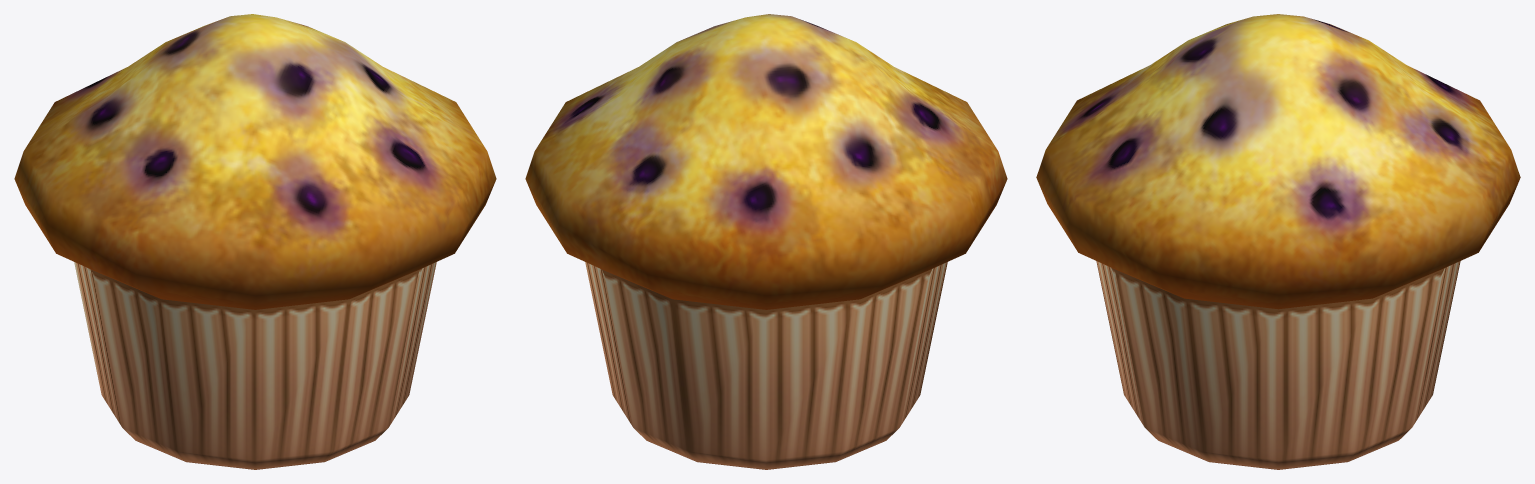
Rendered from 010-Muffins_005.FBX.
The picture shows the model from 3 angles, left to right: view 1: azimuth 30°, elevation 25°; view 2: azimuth 150°, elevation 25°; view 3: azimuth 270°, elevation 25°; orthographic projection.
Parts seen in each view (by area): view 1: 010-Muffins_005; view 2: 010-Muffins_005; view 3: 010-Muffins_005.
Part boxes in pixels (left/top/right/bottom): 010-Muffins_005: left=14, top=14, right=496, bottom=469; 010-Muffins_005: left=525, top=14, right=1007, bottom=469; 010-Muffins_005: left=1036, top=14, right=1520, bottom=469.
Bounding box in the file's own units: 19.43 × 17.2 × 19.43.
